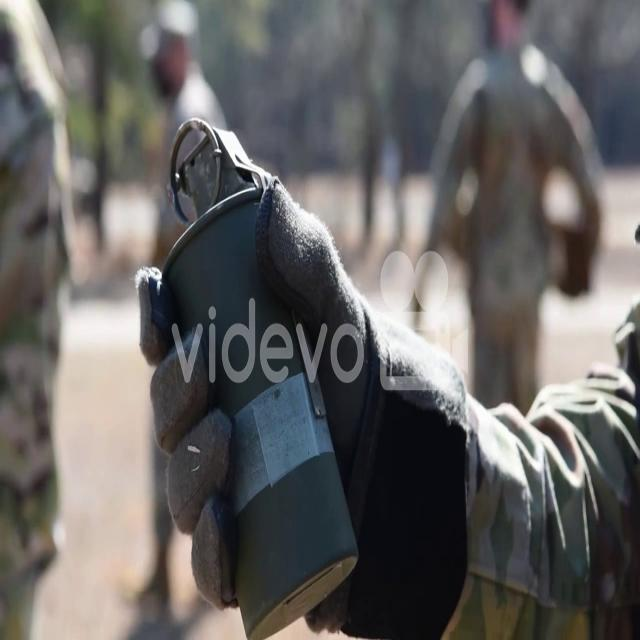grenade: (150, 115, 356, 639)
